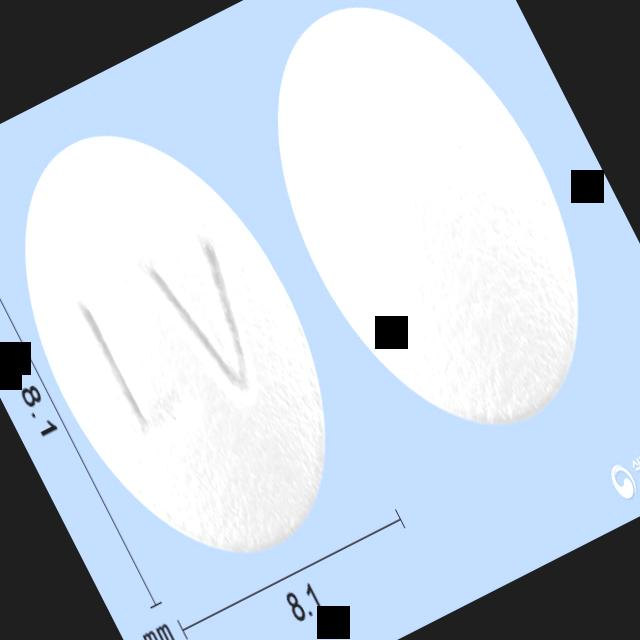Levobay: (0, 82, 393, 605)
